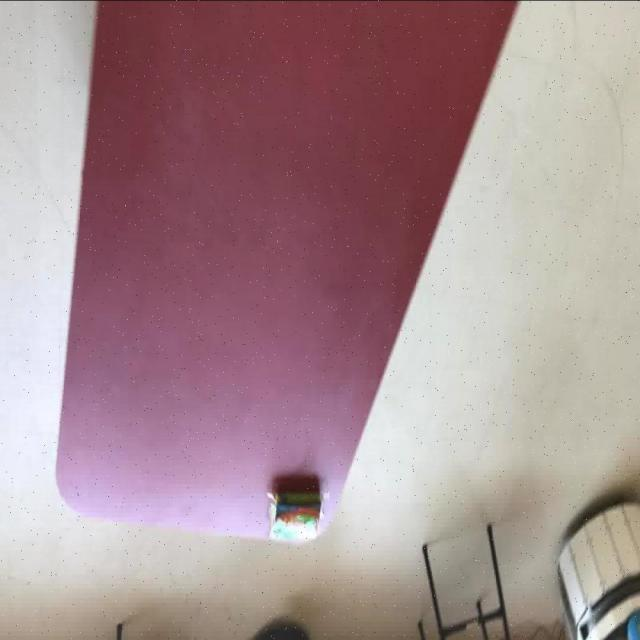Sponge: (556, 498, 639, 638), (266, 488, 321, 538)
